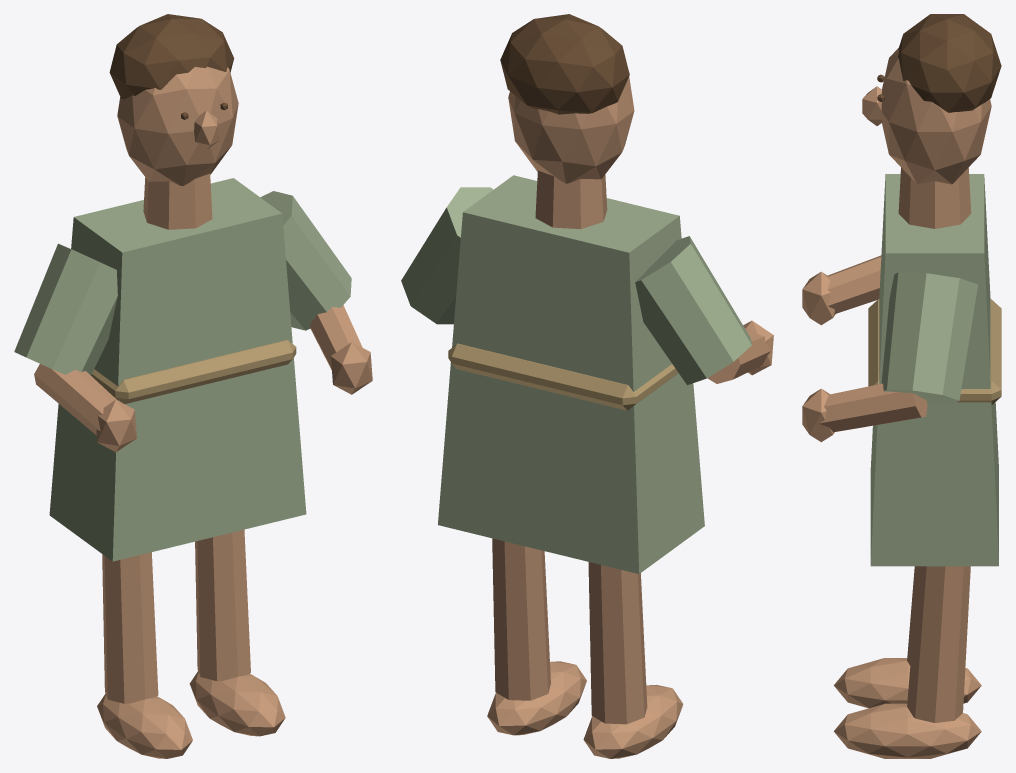
3 views of the same model, side by side, from view 1: azimuth 30°, elevation 25°; view 2: azimuth 150°, elevation 25°; view 3: azimuth 270°, elevation 25° (orthographic). The views are drawn at different scales.
Parts seen in each view (by area): view 1: GF-008 Garden tender batched; view 2: GF-008 Garden tender batched; view 3: GF-008 Garden tender batched.
Part boxes in pixels (x1,y1,x2,y2): GF-008 Garden tender batched: [14, 14, 372, 758]; GF-008 Garden tender batched: [401, 14, 773, 758]; GF-008 Garden tender batched: [802, 14, 1001, 758].
Bounding box in the file's own units: 0.7728 × 1.6 × 0.4033.
